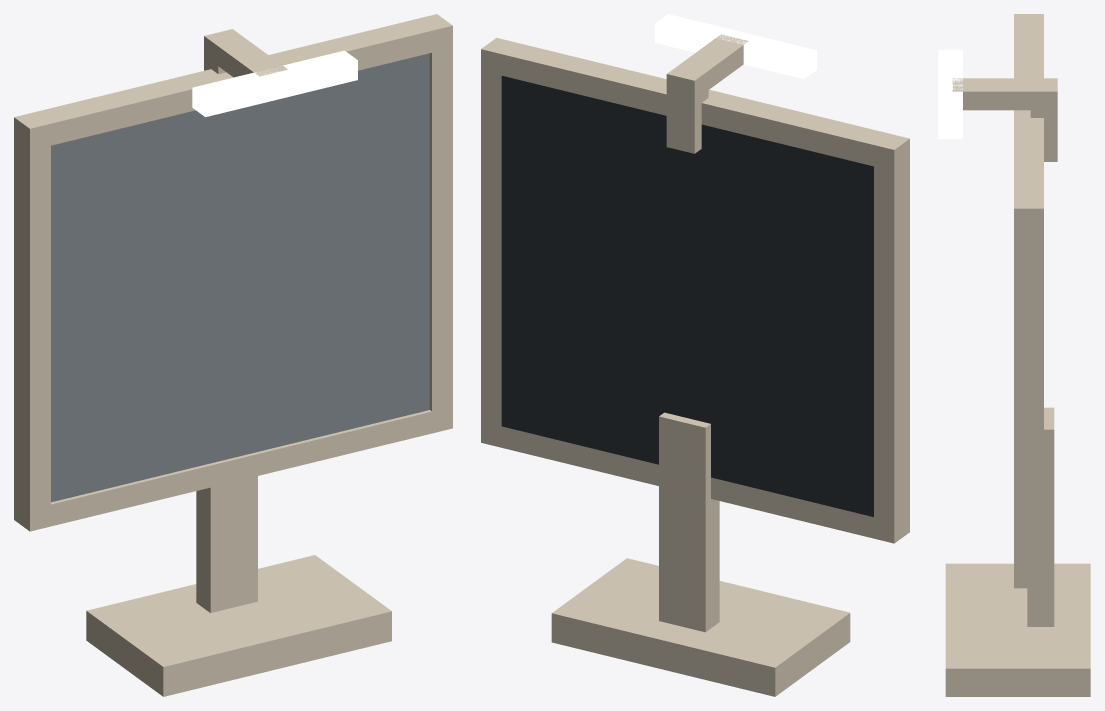
The picture shows the model from 3 angles, left to right: view 1: azimuth 30°, elevation 25°; view 2: azimuth 150°, elevation 25°; view 3: azimuth 270°, elevation 25°; orthographic projection. The views are drawn at different scales.
Visible parts, largest first — view 1: makeup-face-center, makeup-frame-center, makeup-base, makeup-post, makeup-lamp, makeup-lamp-arm; view 2: makeup-back-center, makeup-frame-center, makeup-base, makeup-post, makeup-lamp, makeup-lamp-arm, makeup-lamp-riser; view 3: makeup-base, makeup-frame-center, makeup-lamp-arm, makeup-post, makeup-lamp, makeup-lamp-riser.
Boxes of the visible parts, x1,y1,x2,y2 form: makeup-face-center: (51,53,429,502); makeup-frame-center: (14,14,452,531); makeup-base: (86,555,391,696); makeup-post: (196,476,257,612); makeup-lamp: (192,50,357,117); makeup-lamp-arm: (204,29,287,77); makeup-back-center: (501,76,873,516); makeup-frame-center: (481,37,909,543); makeup-base: (551,558,850,696); makeup-post: (659,412,719,632); makeup-lamp: (655,14,816,78); makeup-lamp-arm: (666,34,748,100); makeup-lamp-riser: (666,78,708,153); makeup-base: (945,563,1090,696); makeup-frame-center: (1014,14,1043,588); makeup-lamp-arm: (952,78,1057,110); makeup-post: (1027,407,1054,626); makeup-lamp: (938,50,962,138); makeup-lamp-riser: (1030,98,1057,161).
Bounding box in the file's own units: 0.444 × 0.595 × 0.147.
